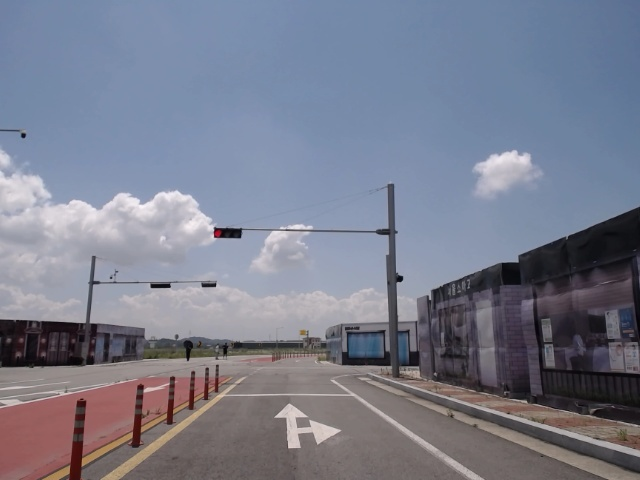red_3: (214, 226, 243, 239)
